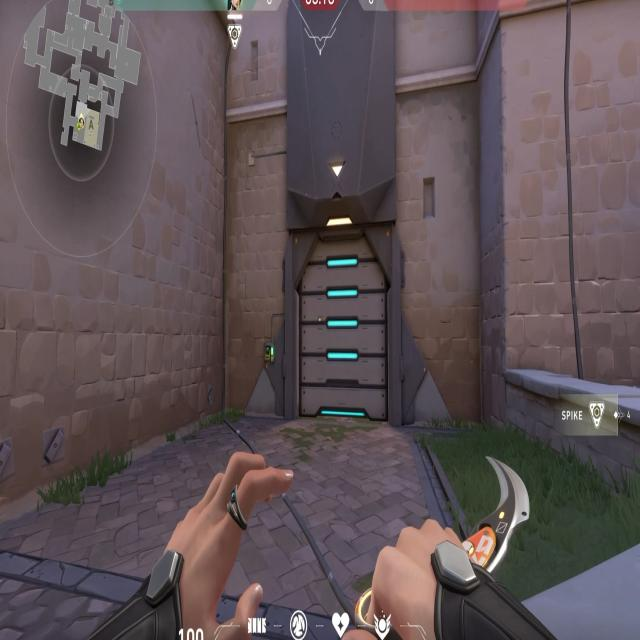A_Door: (289, 227, 398, 413)
